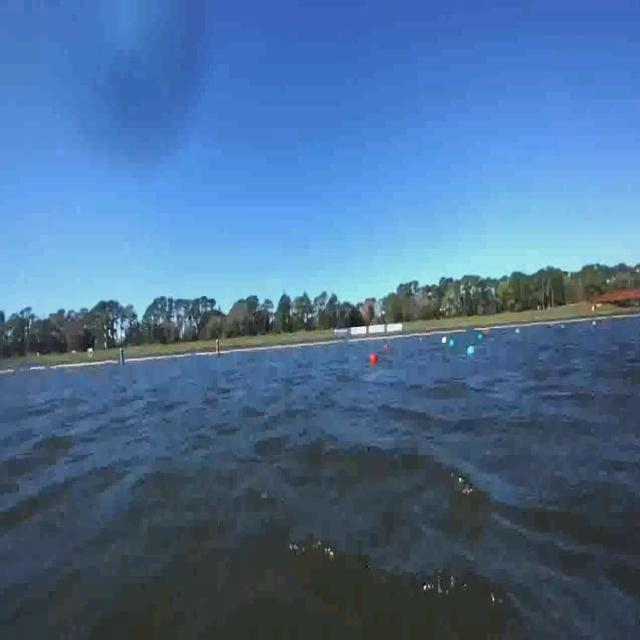red-buoy: (369, 352, 377, 367)
